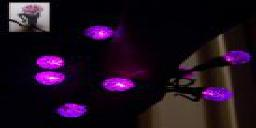LED: (55, 103, 92, 127), (29, 70, 69, 90), (100, 73, 136, 94), (78, 22, 112, 44), (224, 48, 253, 68), (31, 53, 65, 69), (199, 86, 233, 101)
